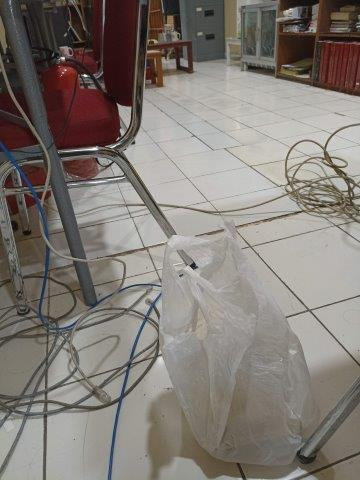plastik: (159, 223, 317, 466)
